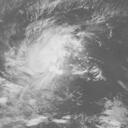cyclone: (1, 17, 106, 118)
